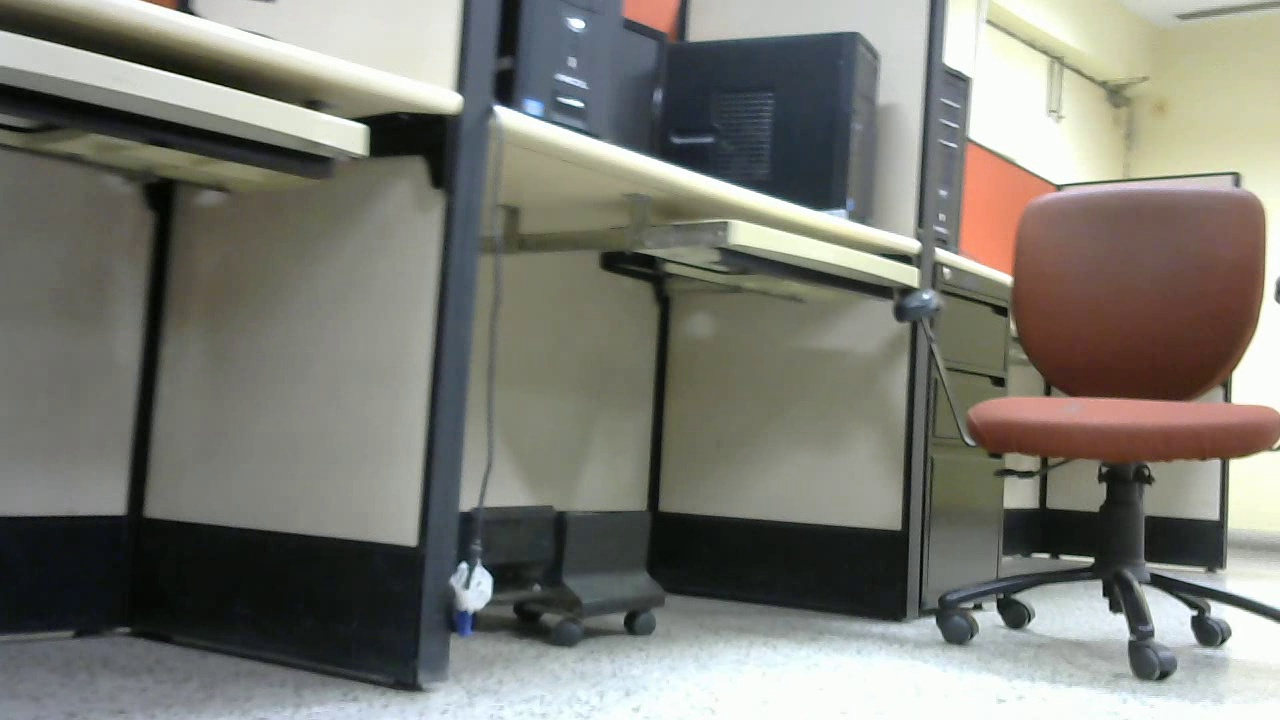chair: (896, 181, 1280, 684)
